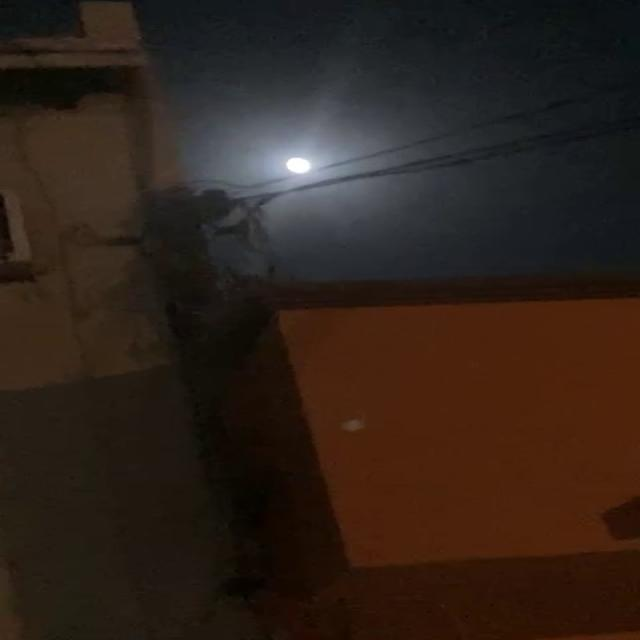moon: (281, 148, 327, 178)
